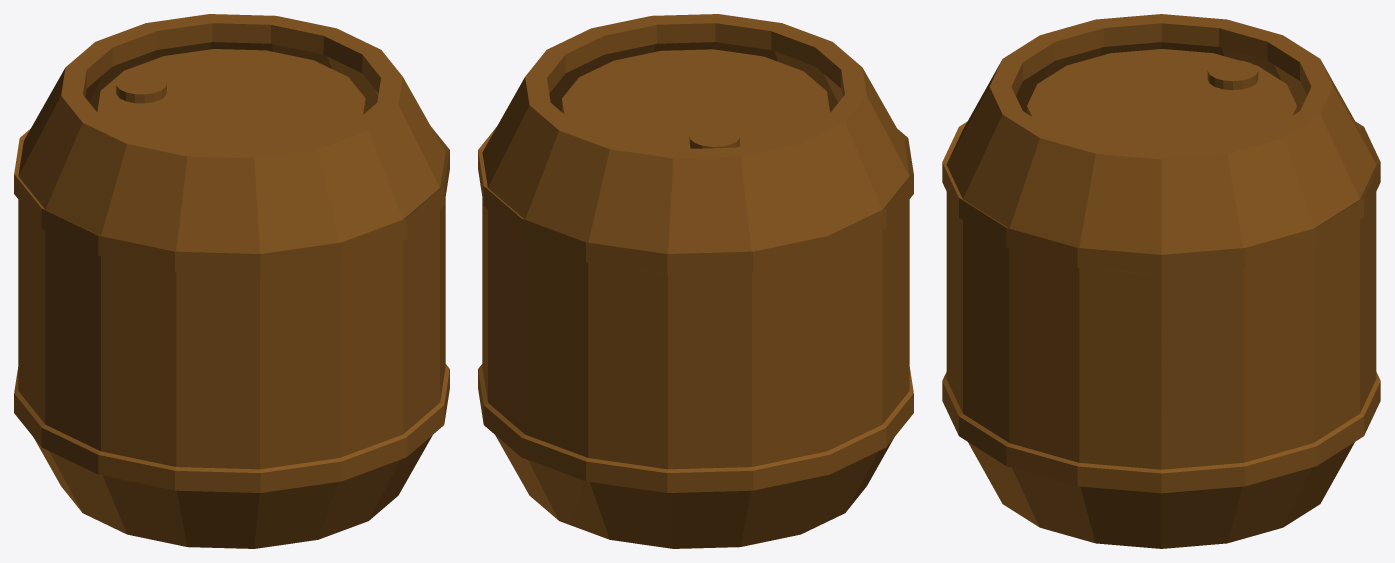
File: Drum.fbx
3 renders of one model, left to right at view 1: azimuth 30°, elevation 25°; view 2: azimuth 150°, elevation 25°; view 3: azimuth 270°, elevation 25°, orthographic.
Visible parts, largest first — view 1: Drum, Drum_cell.006, Drum_cell.012, Drum_cell.009, Drum_cell.004, Drum_cell.001, Drum_cell.003, Drum_cell, Drum_cell.005, Drum_cell.002, Drum_cell.011, Drum_cell.013; view 2: Drum, Drum_cell.009, Drum_cell.008, Drum_cell.012, Drum_cell.007, Drum_cell.004, Drum_cell.005, Drum_cell, Drum_cell.003, Drum_cell.013, Drum_cell.002; view 3: Drum, Drum_cell.003, Drum_cell.008, Drum_cell.012, Drum_cell.006, Drum_cell.004, Drum_cell.013, Drum_cell.011, Drum_cell.005.
Boxes of the visible parts, left/top/right/bottom form: Drum: left=14, top=15, right=449, bottom=548; Drum_cell.006: left=104, top=99, right=444, bottom=344; Drum_cell.012: left=97, top=49, right=365, bottom=148; Drum_cell.009: left=14, top=151, right=136, bottom=364; Drum_cell.004: left=17, top=14, right=267, bottom=203; Drum_cell.001: left=93, top=296, right=303, bottom=433; Drum_cell.003: left=235, top=15, right=449, bottom=375; Drum_cell: left=18, top=383, right=250, bottom=533; Drum_cell.005: left=14, top=374, right=445, bottom=545; Drum_cell.002: left=25, top=343, right=440, bottom=525; Drum_cell.011: left=366, top=60, right=429, bottom=148; Drum_cell.013: left=228, top=129, right=337, bottom=149; Drum: left=478, top=14, right=913, bottom=548; Drum_cell.009: left=718, top=154, right=913, bottom=424; Drum_cell.008: left=478, top=292, right=679, bottom=523; Drum_cell.012: left=564, top=50, right=830, bottom=149; Drum_cell.007: left=586, top=356, right=792, bottom=548; Drum_cell.004: left=545, top=87, right=892, bottom=291; Drum_cell.005: left=777, top=425, right=862, bottom=539; Drum_cell: left=834, top=372, right=913, bottom=462; Drum_cell.003: left=478, top=34, right=595, bottom=233; Drum_cell.013: left=678, top=49, right=828, bottom=99; Drum_cell.002: left=788, top=296, right=905, bottom=438; Drum: left=942, top=20, right=1380, bottom=548; Drum_cell.003: left=999, top=126, right=1373, bottom=465; Drum_cell.008: left=1030, top=219, right=1380, bottom=548; Drum_cell.012: left=1061, top=49, right=1296, bottom=149; Drum_cell.006: left=942, top=31, right=1087, bottom=333; Drum_cell.004: left=1089, top=14, right=1380, bottom=178; Drum_cell.013: left=1027, top=61, right=1083, bottom=132; Drum_cell.011: left=1045, top=142, right=1136, bottom=209; Drum_cell.005: left=971, top=444, right=1058, bottom=532.
Size of the model in its own units: 102 by 100 by 102.
